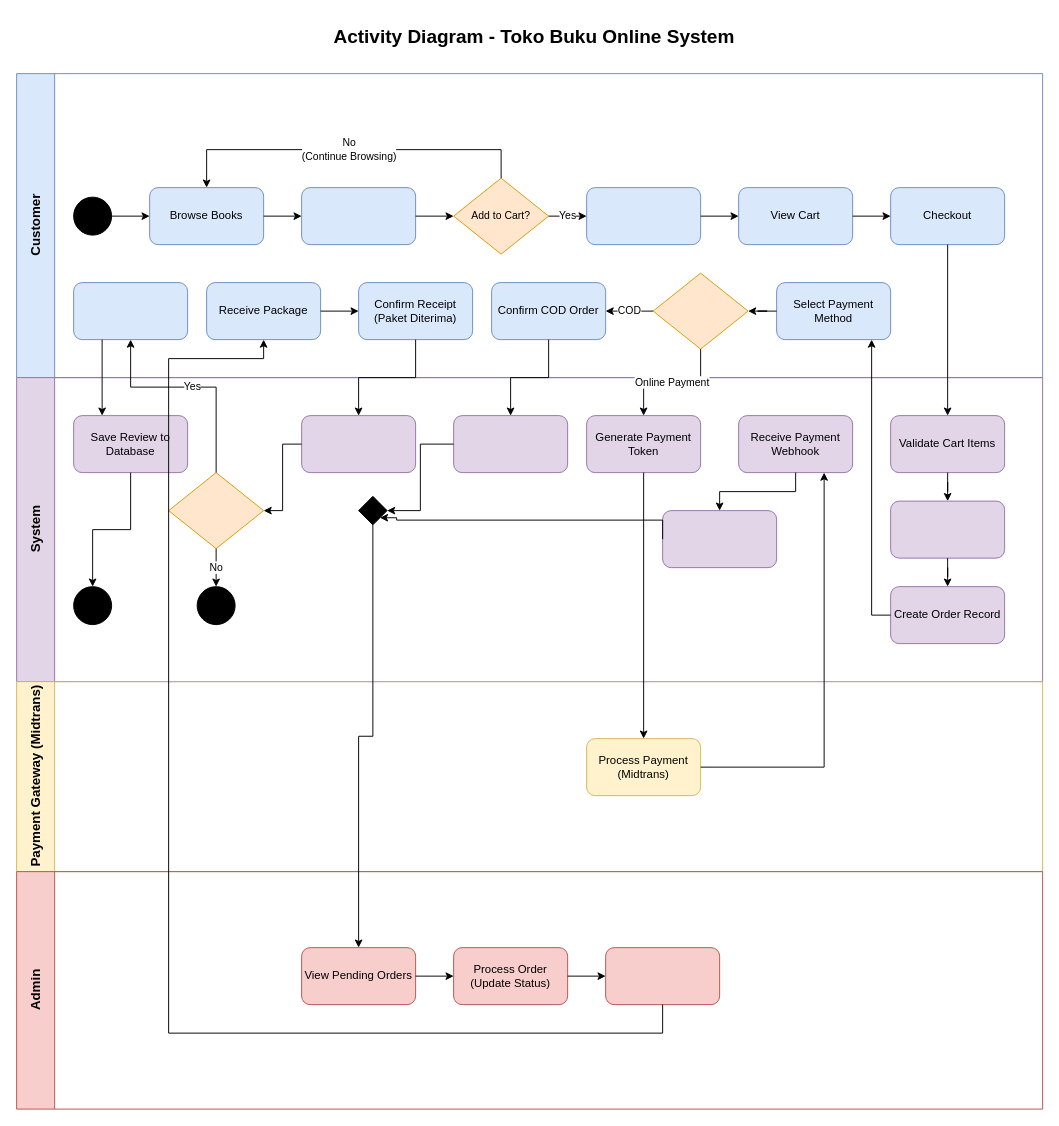
The diagram is 1059 pixels wide and 1126 high, and some of its shapes have lost their labels. The centre of each missing label's shape, as x and y in pixels:
"Add to Cart" belongs at point 643,216.
"Calculate Total Price" belongs at point 947,529.
"Complete Order (Status: Completed)" belongs at point 358,444.
"Payment Method?" belongs at point 700,310.
"Ship Order (Status: Shipped)" belongs at point 662,976.
"Update Order Status (Pending)" belongs at point 510,444.
"Update Payment Status" belongs at point 719,539.
"View Book Detail" belongs at point 358,216.
"Write Book Review" belongs at point 130,311.
"Write Review?" belongs at point 216,510.
